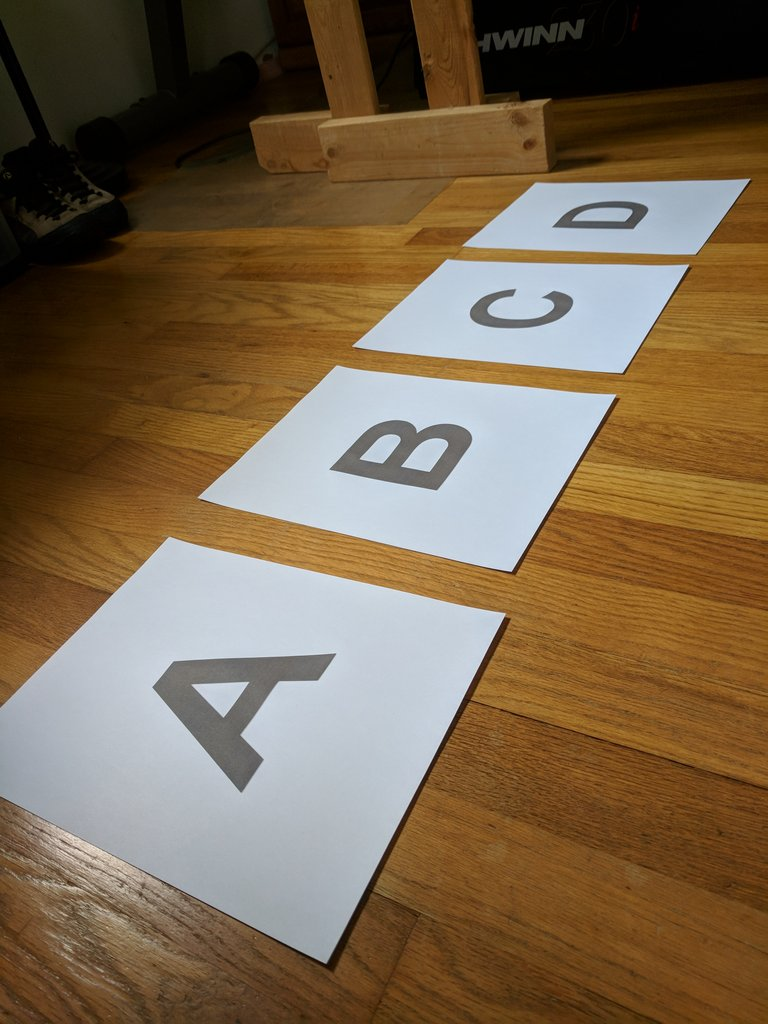home: (552, 202, 649, 229)
